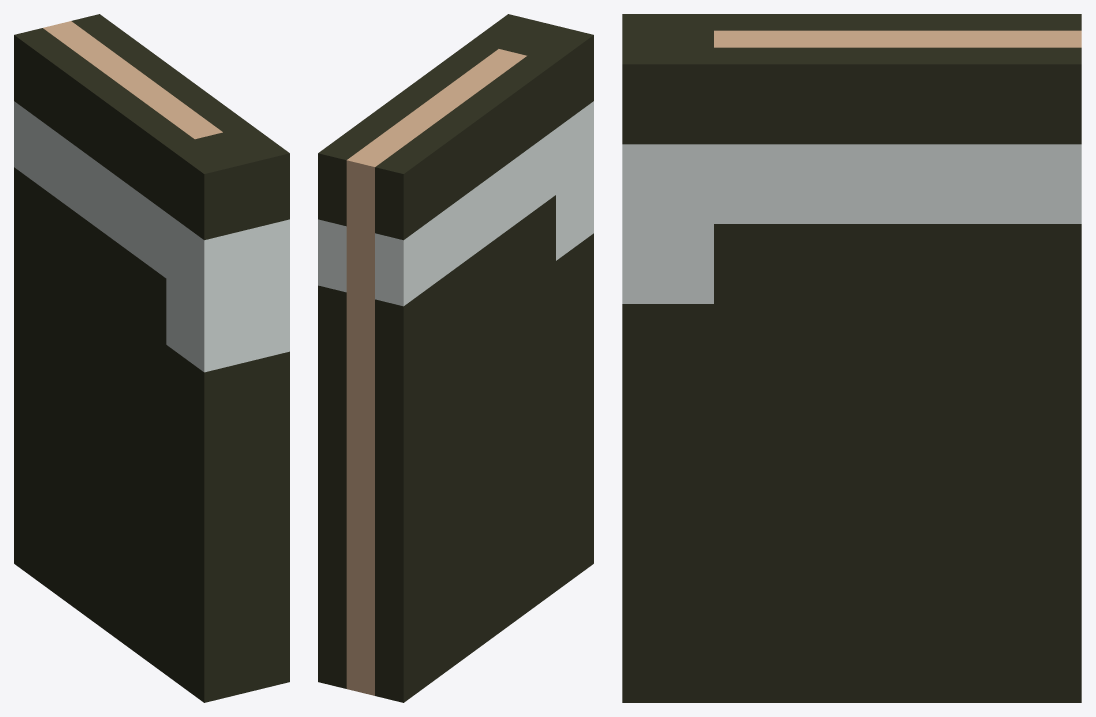
Rendered from livre2.fbx.
The picture shows the model from 3 angles, left to right: view 1: azimuth 30°, elevation 25°; view 2: azimuth 150°, elevation 25°; view 3: azimuth 270°, elevation 25°; orthographic projection. The views are drawn at different scales.
Visible parts, largest first — view 1: Livre 2; view 2: Livre 2; view 3: Livre 2.
Boxes of the visible parts, box(x1,y1,x2,y2) form: Livre 2: box(14, 14, 289, 702); Livre 2: box(318, 14, 593, 702); Livre 2: box(622, 14, 1081, 702).
Bounding box in the file's own units: 3.9 × 23 × 15.
Materials: 1 (1 with a texture image).
